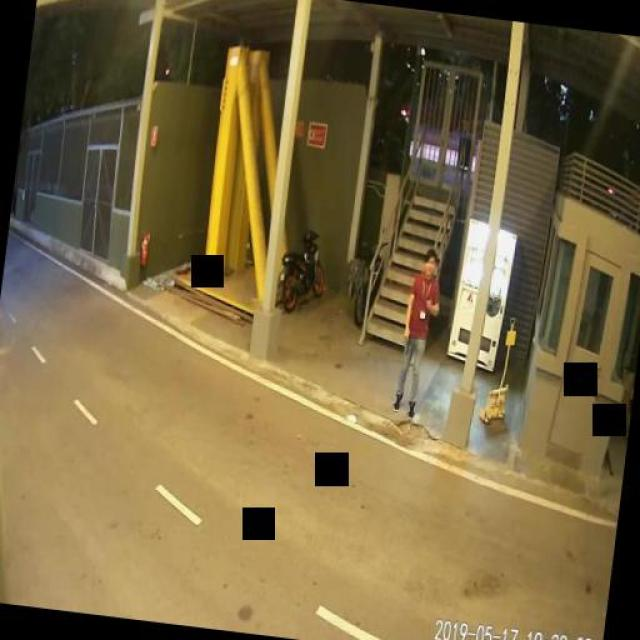gun: (401, 328, 411, 353)
